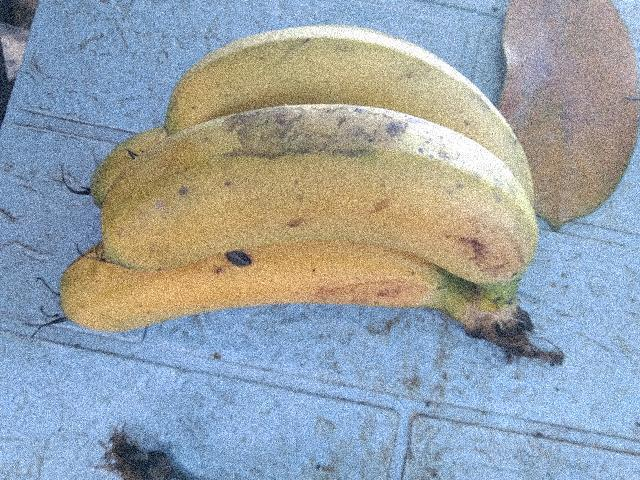ripe: (77, 92, 538, 280)
